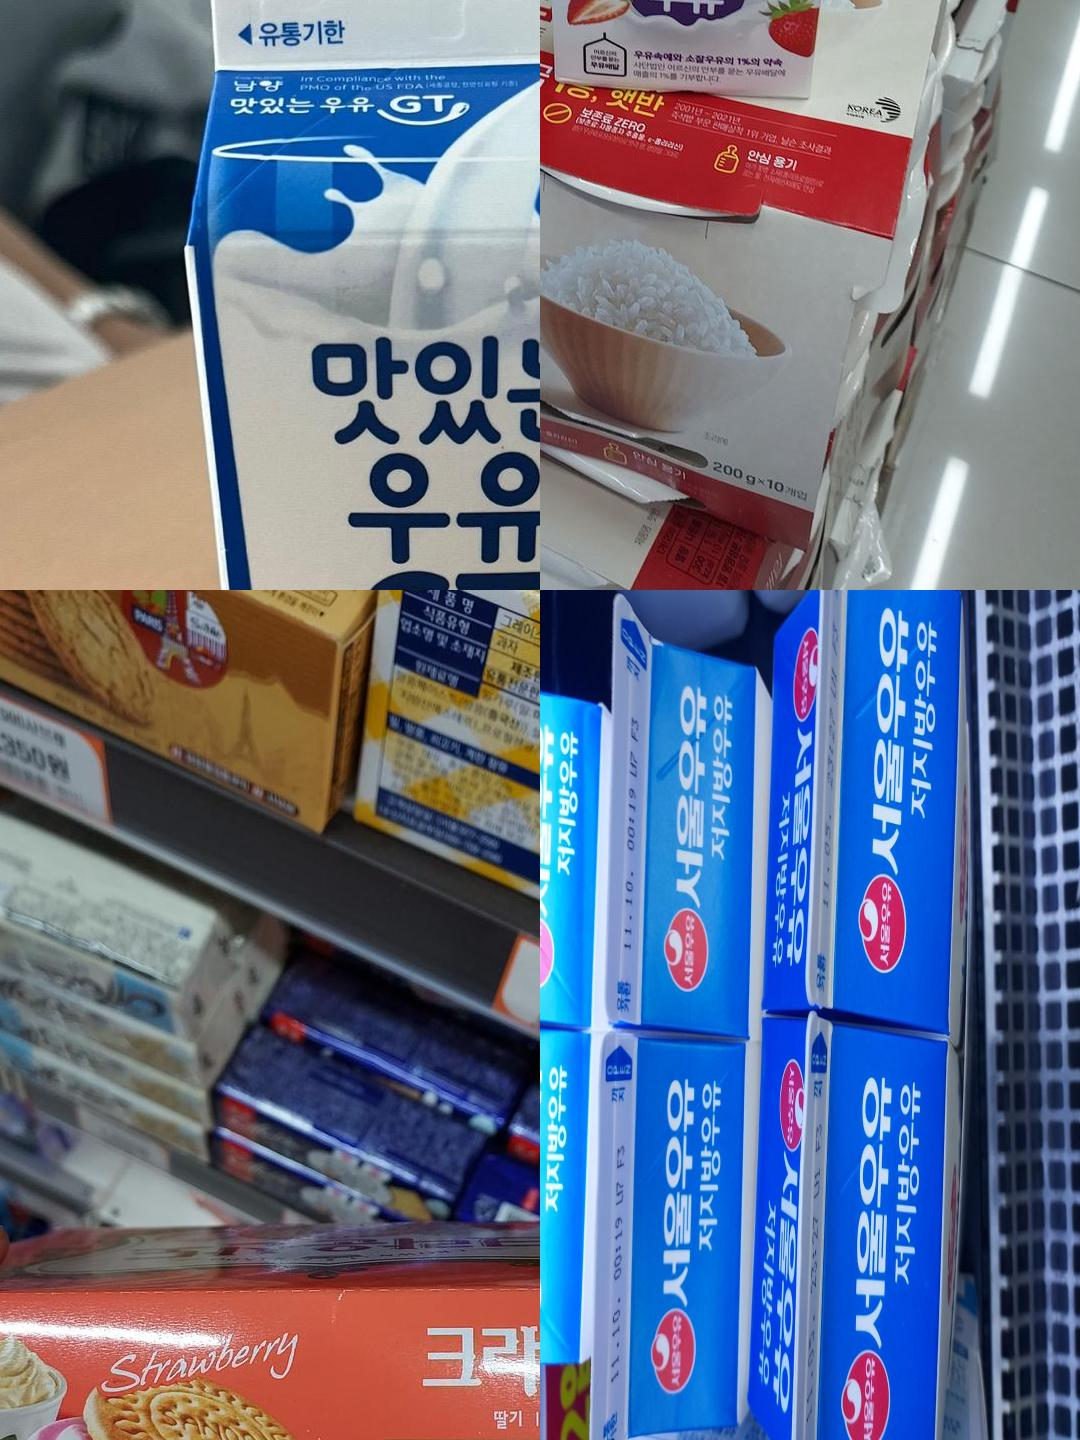milk: (208, 0, 540, 70), (809, 591, 849, 1020), (611, 594, 643, 1020), (598, 1043, 631, 1440), (559, 0, 844, 43), (802, 1026, 832, 1437)
